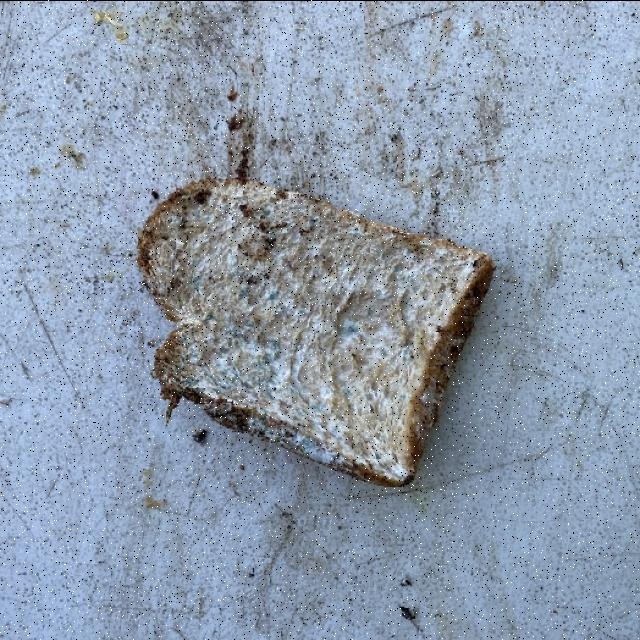organik: (128, 178, 494, 488)
